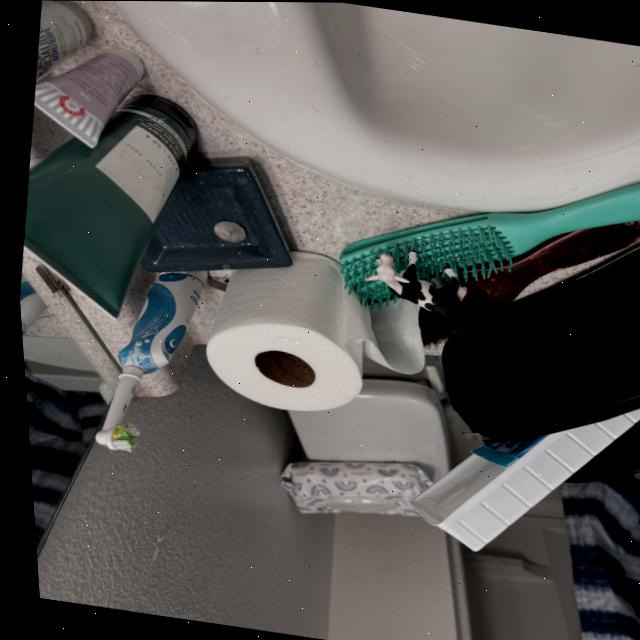cow: (361, 237, 472, 324)
